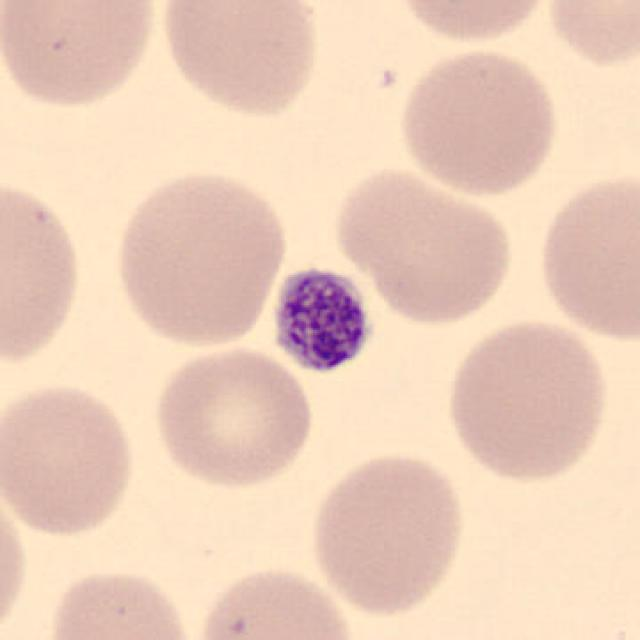Platelets: (267, 261, 377, 377)
RBC: (108, 164, 292, 353), (329, 162, 519, 328), (439, 315, 613, 485), (306, 446, 471, 619), (393, 42, 563, 200), (148, 340, 318, 492), (0, 376, 142, 541), (155, 0, 325, 122), (531, 164, 640, 344), (0, 0, 164, 115), (0, 169, 89, 374), (192, 560, 361, 640), (44, 562, 198, 640), (388, 0, 556, 48), (538, 0, 638, 72), (0, 482, 32, 638)
